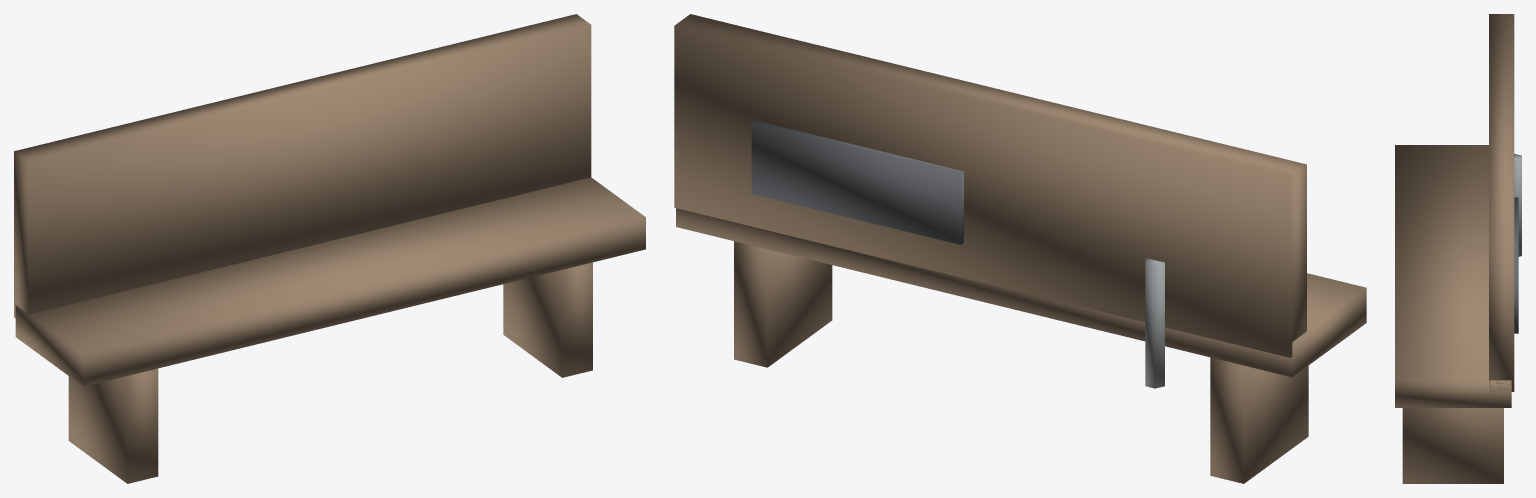
Rendered from church_pew__service.glb.
The picture shows the model from 3 angles, left to right: view 1: azimuth 30°, elevation 25°; view 2: azimuth 150°, elevation 25°; view 3: azimuth 270°, elevation 25°; orthographic projection. The views are drawn at different scales.
Parts seen in each view (by area): view 1: world; view 2: world; view 3: world.
Boxes of the visible parts, x1=… form: world: x1=14, y1=14, x2=645, y2=483; world: x1=674, y1=14, x2=1366, y2=483; world: x1=1395, y1=14, x2=1521, y2=483.
Bounding box in the file's own units: 2.2 × 1.11 × 0.5003.
